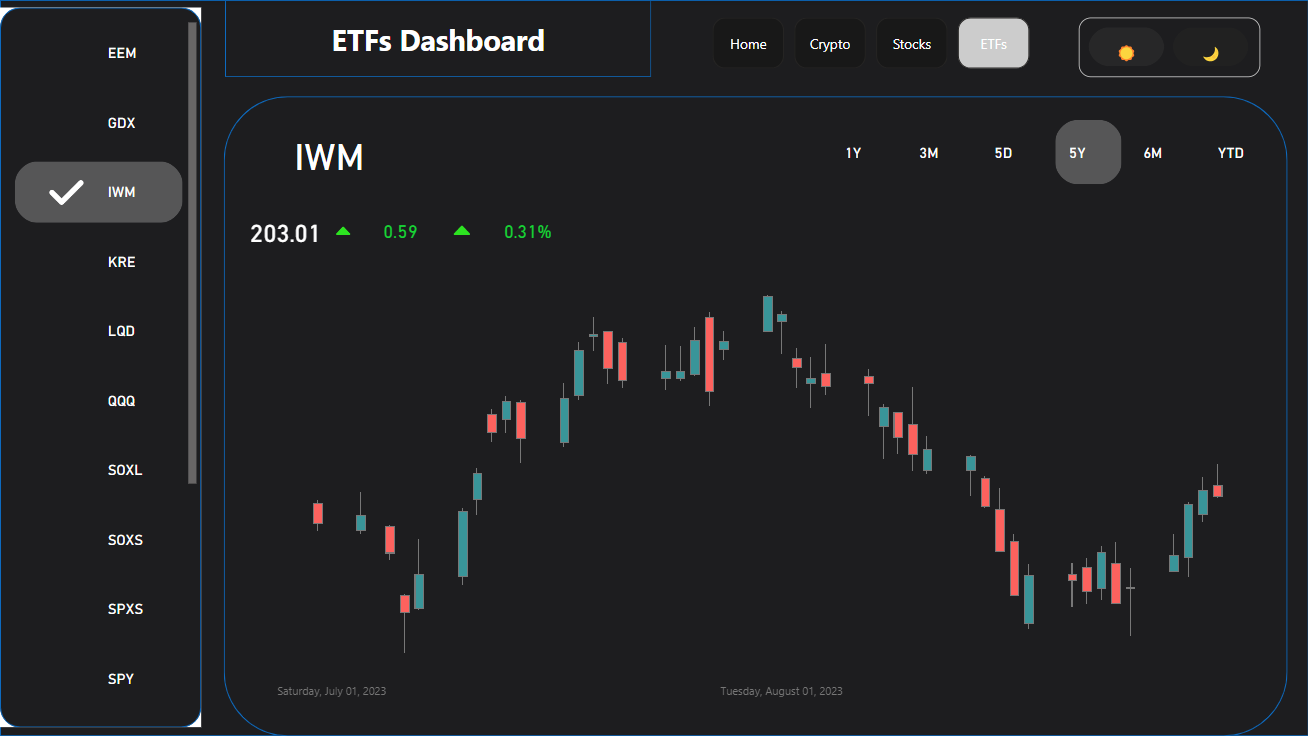

The page's visual inventory and layout, read from the dashboard file:
{"tool":"powerbi","page":{"name":"ETFs","canvas":[1280,720],"ordinal":3},"visuals":[{"type":"shape","box":[0,0,1280.3,720.2],"z":0},{"type":"shape","box":[218.9,94.2,1040.6,626.1],"z":1000},{"type":"PBI_CV_886A053E_9DFD_4EA0_A47D_CCAEB89AF969","fields":{"open":["Sum(Stocks Data.Open)"],"close":["Sum(Stocks Data.Close)"],"high":["Sum(Stocks Data.High)"],"low":["Sum(Stocks Data.Low)"],"Category":["Stocks Data.Date"]},"box":[239.7,238.5,1011.3,473.2],"z":3000},{"type":"shape","box":[0,0,196.9,720.2],"z":4000},{"type":"advancedSlicerVisual","fields":{"Values":["Stocks Data.Symbol"]},"box":[9.8,17.1,187.1,683.6],"z":5000},{"type":"advancedSlicerVisual","fields":{"Values":["Stocks Data.Date Category"]},"box":[808.3,112.5,442.7,73.4],"z":6000},{"type":"advancedSlicerVisual","fields":{"Values":["Colour Codes.Label"]},"box":[1055.3,17.1,177.3,58.7],"z":7000},{"type":"card","fields":{"Values":["Min(Stocks Data.Symbol)"]},"box":[159.2,102.9,326.6,96.1],"z":8000},{"type":"card","fields":{"Values":["Stocks Data.Open_Value"]},"box":[228.7,207.9,101.5,39.1],"z":9000},{"type":"card","fields":{"Values":["Stocks Data.Open_Close_Diff"]},"box":[341.2,207.9,101.5,39.1],"z":10000},{"type":"card","fields":{"Values":["Stocks Data.Diff_%"]},"box":[465.9,207.9,101.5,39.1],"z":11000},{"type":"cardVisual","fields":{"Data":["Min(Stocks Data.Logo)"]},"box":[306.9,199.3,62.4,47.7],"z":12000},{"type":"cardVisual","fields":{"Data":["Min(Stocks Data.Logo)"]},"box":[421.9,199.3,64.8,47.7],"z":13000},{"type":"shape","box":[219.6,0,417.2,75.5],"z":14000},{"type":"pageNavigator","box":[697,17.1,313,50.1],"z":15000}]}

Visuals, with their boxes in screenshot pixels (x1, y1, x2, y2), scaled from the page's 1280x720 canvas onto the 1308x736 screenshot:
shape: 0:0:1307:735
shape: 224:96:1287:735
PBI_CV_886A053E_9DFD_4EA0_A47D_CCAEB89AF969 - Sum(Stocks Data.Open) x Sum(Stocks Data.Close): 245:244:1278:728
shape: 0:0:201:735
advancedSlicerVisual - Stocks Data.Symbol: 10:17:201:716
advancedSlicerVisual - Stocks Data.Date Category: 826:115:1278:190
advancedSlicerVisual - Colour Codes.Label: 1078:17:1260:77
card - Min(Stocks Data.Symbol): 163:105:496:203
card - Stocks Data.Open_Value: 234:213:337:252
card - Stocks Data.Open_Close_Diff: 349:213:452:252
card - Stocks Data.Diff_%: 476:213:580:252
cardVisual - Min(Stocks Data.Logo): 314:204:377:252
cardVisual - Min(Stocks Data.Logo): 431:204:497:252
shape: 224:0:651:77
pageNavigator: 712:17:1032:69
